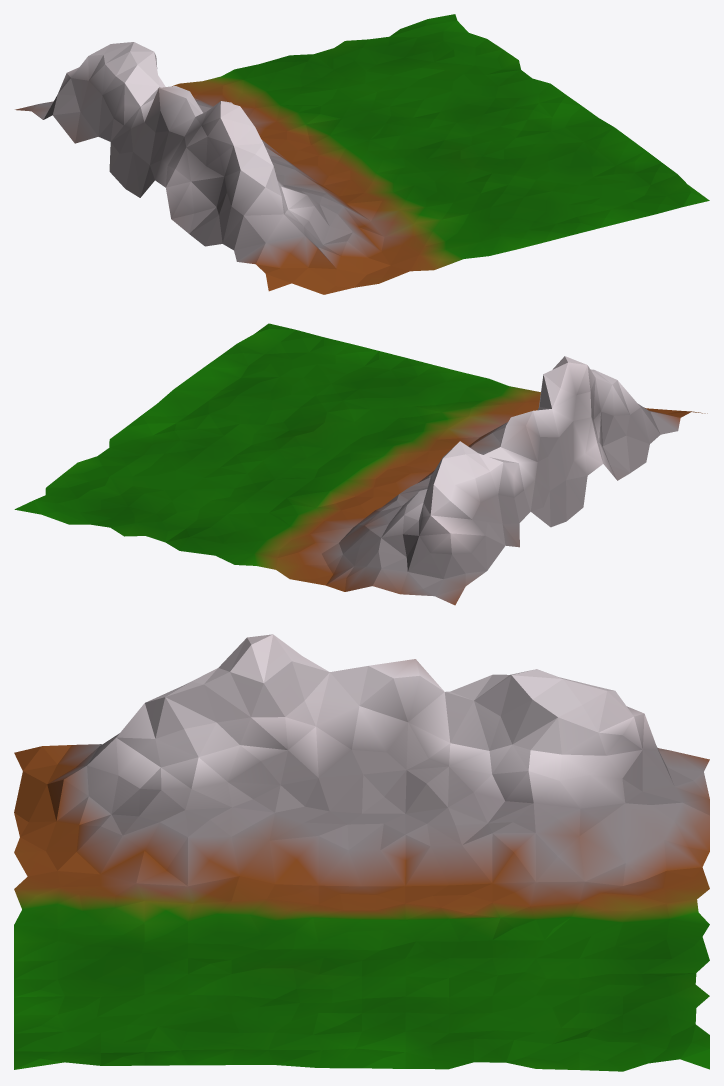
Rendered from background4.fbx.
3 views of the same model, one above another, from view 1: azimuth 30°, elevation 25°; view 2: azimuth 150°, elevation 25°; view 3: azimuth 270°, elevation 25° (orthographic). The views are drawn at different scales.
Parts seen in each view (by area): view 1: Plan; view 2: Plan; view 3: Plan.
Boxes of the visible parts, x1,y1,x2,y2 form: Plan: (15, 14, 709, 294); Plan: (14, 323, 707, 605); Plan: (14, 634, 709, 1071).
Bounding box in the file's own units: 20262 × 5583 × 20001.
